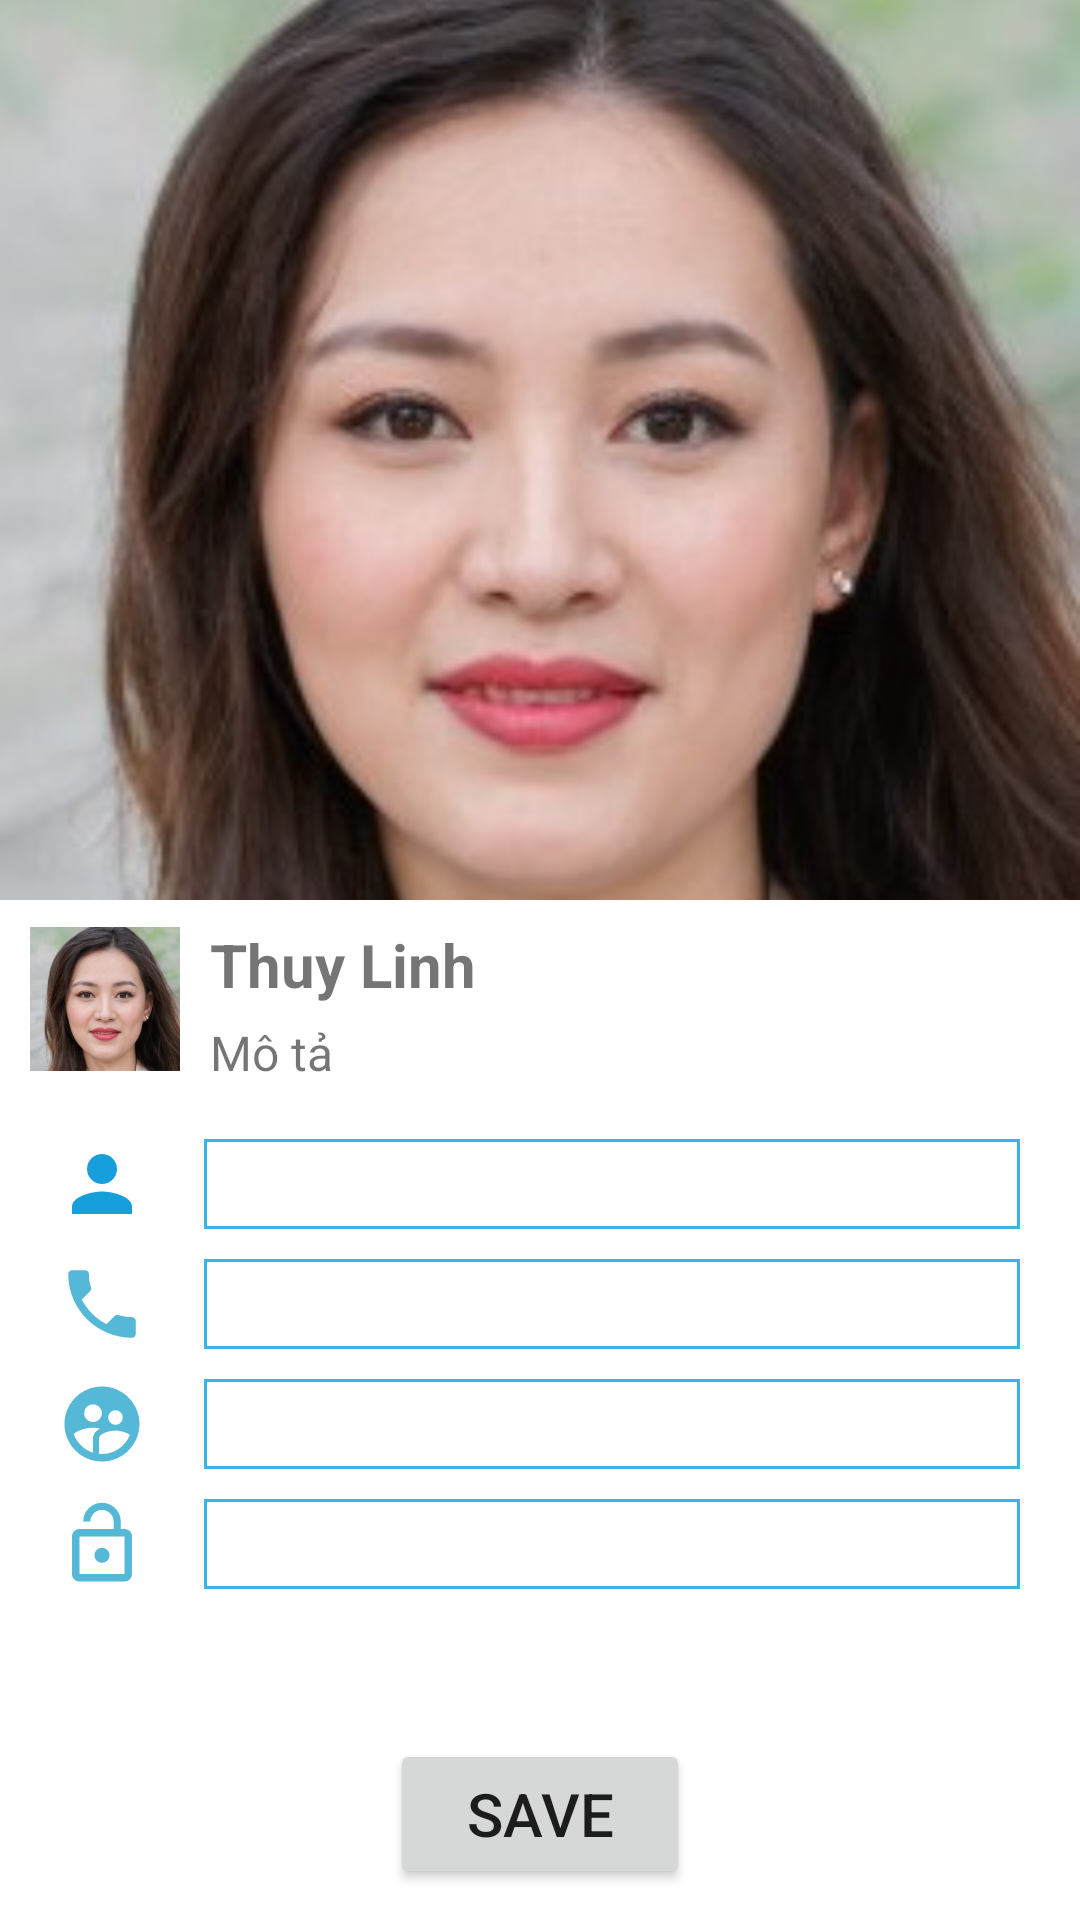

Screen size 1080 × 1920. Icon name, then its box in pixels as bbox(x1, y1, x2, y2):
lock open: bbox(72, 1502, 132, 1582)
person: bbox(72, 1154, 132, 1214)
phone: bbox(68, 1270, 136, 1338)
supervised user circle: bbox(64, 1386, 140, 1462)
